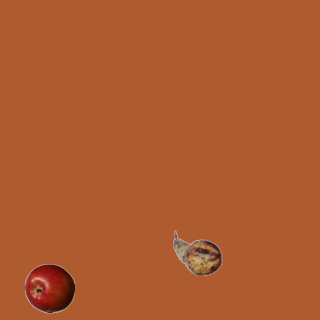Apple Braeburn: (24, 263, 74, 313)
Pear Abate: (172, 228, 222, 278)
